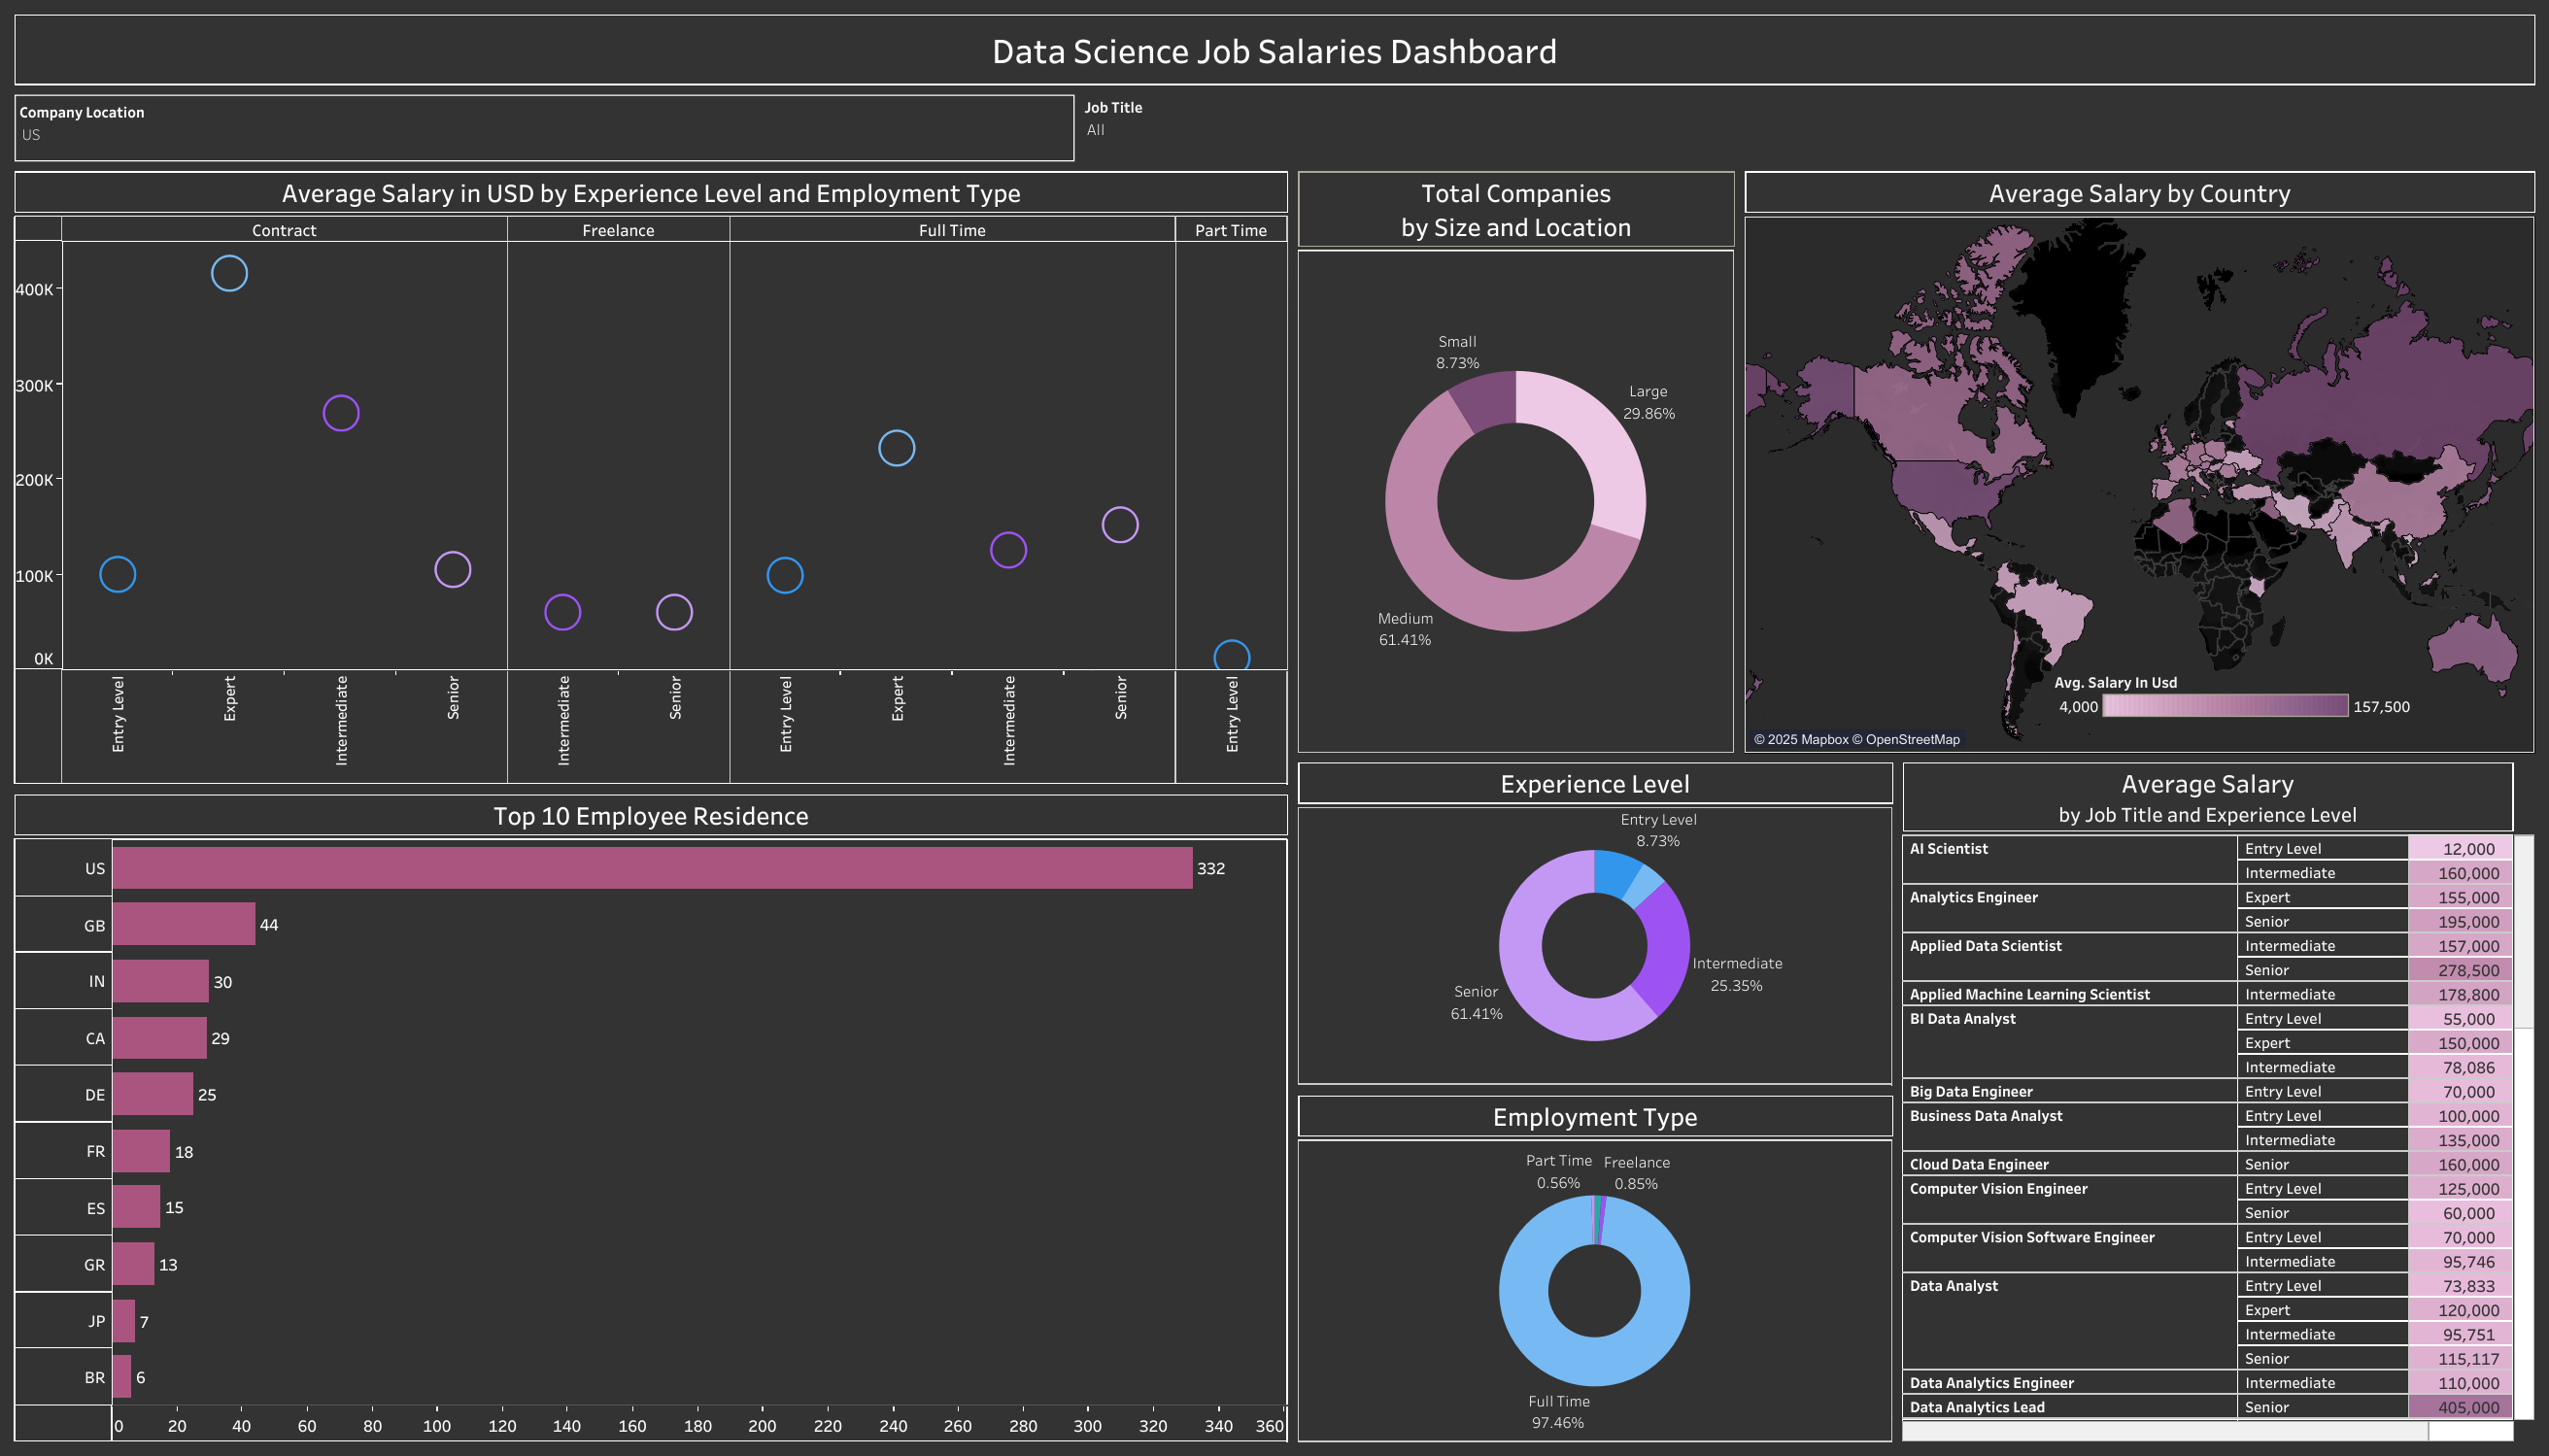

This screenshot's page, from the dashboard's own definition file:
{"tool":"tableau","page":{"name":"Dashboard","canvas":[2100,1200],"ordinal":0},"visuals":[{"type":"title","box":[8,8,2084,66]},{"type":"filter","title":"Total Company","param":"[federated.16x5usa1diua7p106btl20h85vki].[none:company_location:nk]","box":[8,74,881,63.2]},{"type":"filter","title":"Map: Average Salary by Countries","param":"[federated.16x5usa1diua7p106btl20h85vki].[none:job_title:nk]","box":[889,74,1203,63.2]},{"type":"worksheet","title":"Average Salary","mark":"Shape","rows":["salary_in_usd"],"cols":["employment_type","experience_level"],"box":[8,137.2,1057,512.7]},{"type":"worksheet","title":"Total Company","mark":"Pie","rows":["Calculation_808959138399989761","Calculation_808959138399989761"],"box":[1065,137.2,368,486.4]},{"type":"worksheet","title":"Map: Average Salary by Countries","mark":"Automatic","box":[1433,137.2,659,486.4]},{"type":"legend","title":"Map: Average Salary by Countries","param":"[federated.16x5usa1diua7p106btl20h85vki].[avg:salary_in_usd:qk]","box":[1692,548,298,116]},{"type":"worksheet","title":"Experience Level","mark":"Pie","rows":["Calculation_808959138399989761","Calculation_808959138399989761"],"box":[1065,623.6,498,274.4]},{"type":"worksheet","title":"Average Salary by Job Title and Experience Level","mark":"Square","rows":["job_title","experience_level"],"box":[1563,623.6,529,568.4]},{"type":"worksheet","title":"Top 10 Employee Residence","mark":"Automatic","rows":["employee_residence"],"cols":["employee_residence"],"box":[8,650,1057,542]},{"type":"worksheet","title":"Employement Type","mark":"Pie","rows":["Calculation_808959138399989761","Calculation_808959138399989761"],"box":[1065,898.1,498,293.9]}]}

Visuals, with their boxes in screenshot pixels (x1, y1, x2, y2), scaled from the page's 2100x1200 canvas onto the 2549x1456 screenshot:
title: BBox(10, 10, 2539, 89)
"Total Company" filter: BBox(10, 89, 1079, 166)
"Map: Average Salary by Countries" filter: BBox(1079, 89, 2539, 166)
"Average Salary" worksheet (Shape marks): BBox(10, 166, 1293, 789)
"Total Company" worksheet (Pie marks): BBox(1293, 166, 1740, 757)
"Map: Average Salary by Countries" worksheet: BBox(1740, 166, 2539, 757)
"Map: Average Salary by Countries" legend: BBox(2054, 665, 2416, 805)
"Experience Level" worksheet (Pie marks): BBox(1293, 757, 1897, 1090)
"Average Salary by Job Title and Experience Level" worksheet (Square marks): BBox(1897, 757, 2539, 1446)
"Top 10 Employee Residence" worksheet: BBox(10, 789, 1293, 1446)
"Employement Type" worksheet (Pie marks): BBox(1293, 1090, 1897, 1446)
